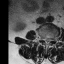CCS_stenosis: (46, 36, 48, 46)
LFS_stenosis: (50, 36, 53, 43)
LLS_normal: (48, 36, 50, 44)
RFS_normal: (41, 34, 44, 42)
RLS_normal: (44, 36, 46, 44)
